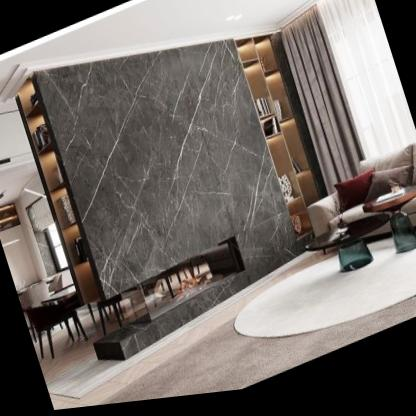Wall Panel: (32, 36, 344, 363)
